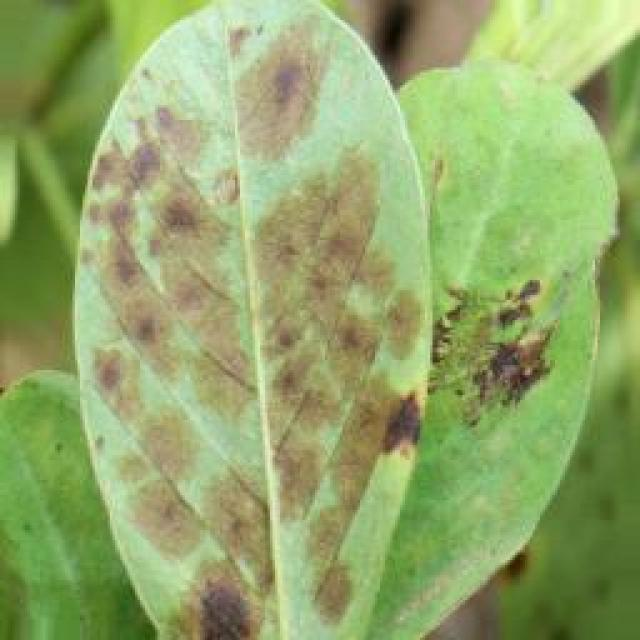Whitefly: (63, 0, 586, 640)
